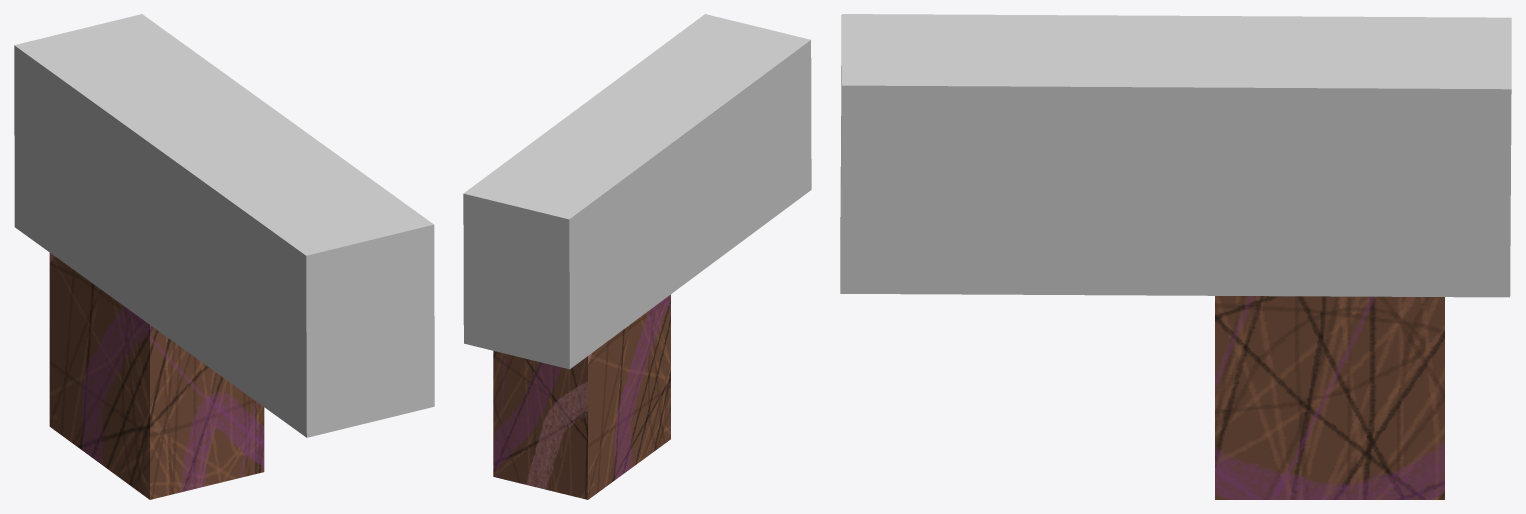
File: Glock18.fbx
3 renders of one model, left to right at view 1: azimuth 30°, elevation 25°; view 2: azimuth 150°, elevation 25°; view 3: azimuth 270°, elevation 25°, orthographic. The views are drawn at different scales.
Parts seen in each view (by area): view 1: Slide, Grip; view 2: Slide, Grip; view 3: Slide, Grip.
Part boxes in pixels (box(x1,y1,x2,y2)): Slide: box(14, 14, 434, 437); Grip: box(49, 253, 264, 499); Slide: box(463, 14, 811, 369); Grip: box(493, 294, 670, 499); Slide: box(840, 14, 1511, 297); Grip: box(1215, 296, 1444, 499).
Bounding box in the file's own units: 0.5073 × 1.38 × 2.01.
